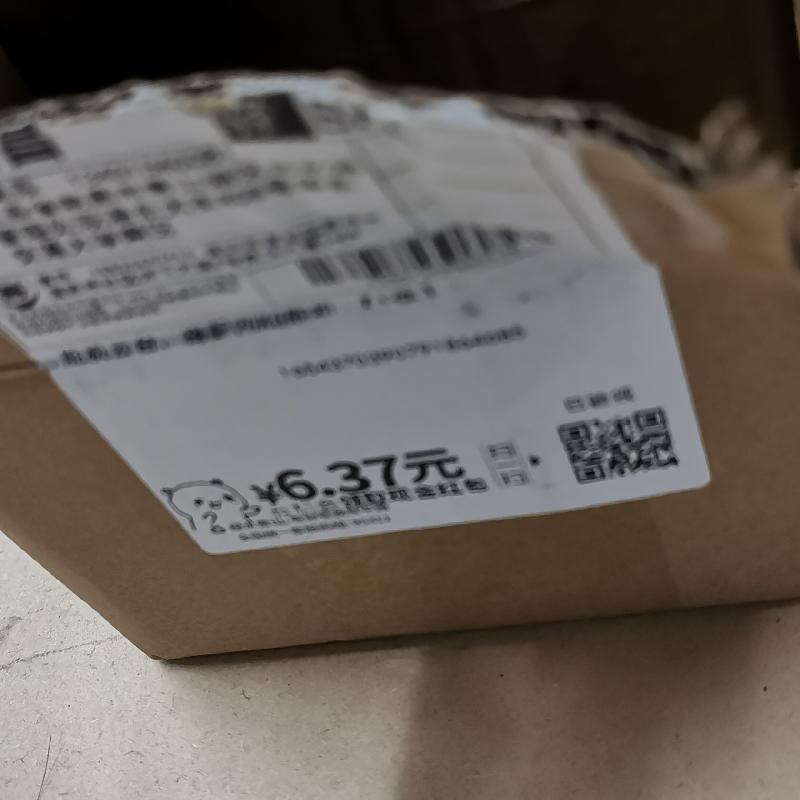boxes: (8, 3, 799, 799)
